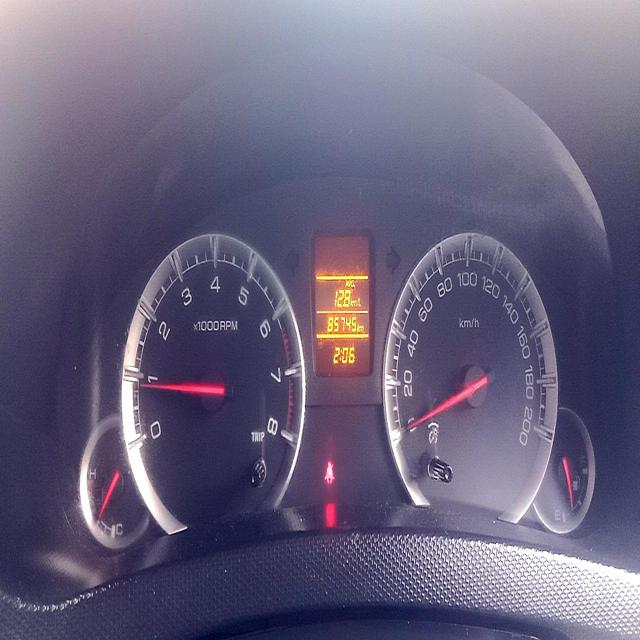odometer: (326, 313, 357, 334)
